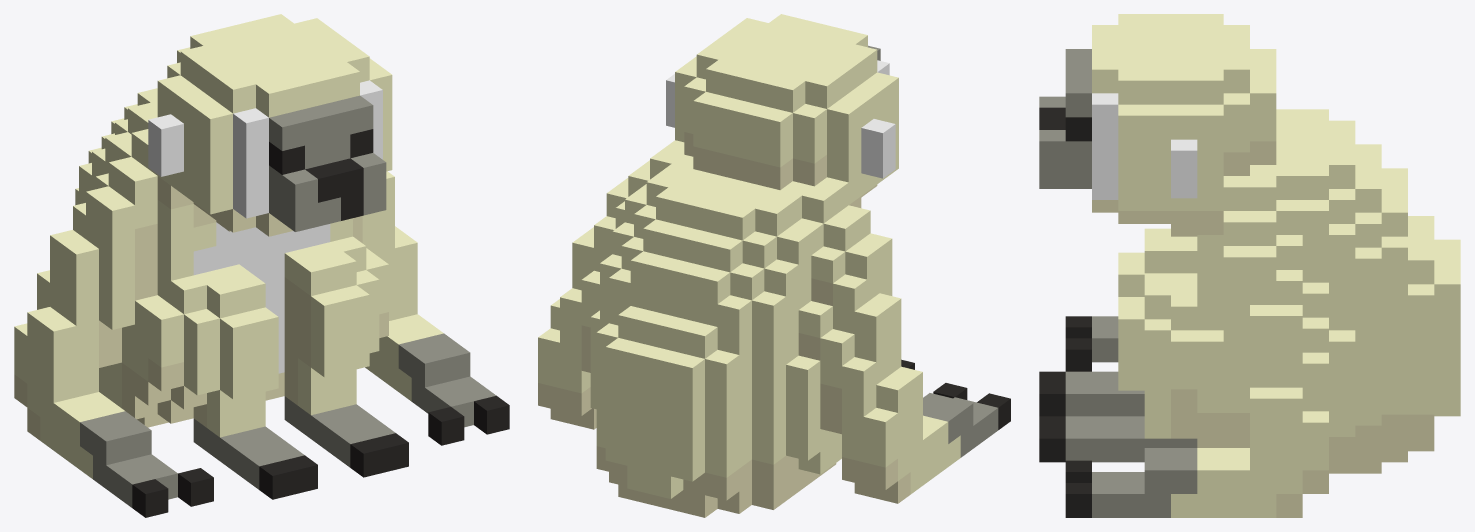
File: 2Card_1Lv.obj
3 views of the same model, side by side, from view 1: azimuth 30°, elevation 25°; view 2: azimuth 150°, elevation 25°; view 3: azimuth 270°, elevation 25° (orthographic). The views are drawn at different scales.
Bounding box in the file's own units: 1.6 × 1.6 × 1.6.
